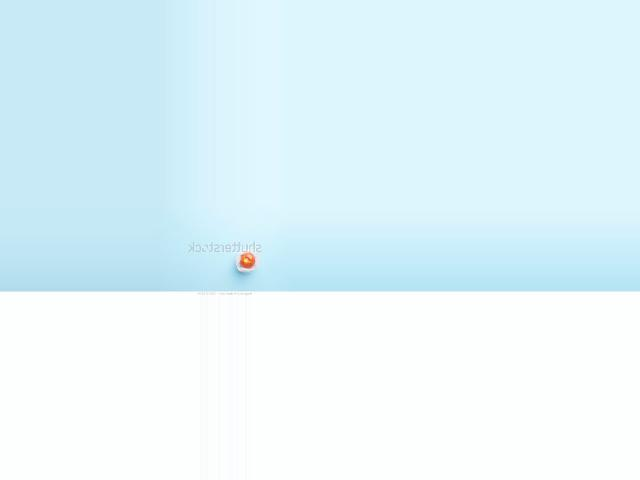tomato: (238, 252, 254, 268)
